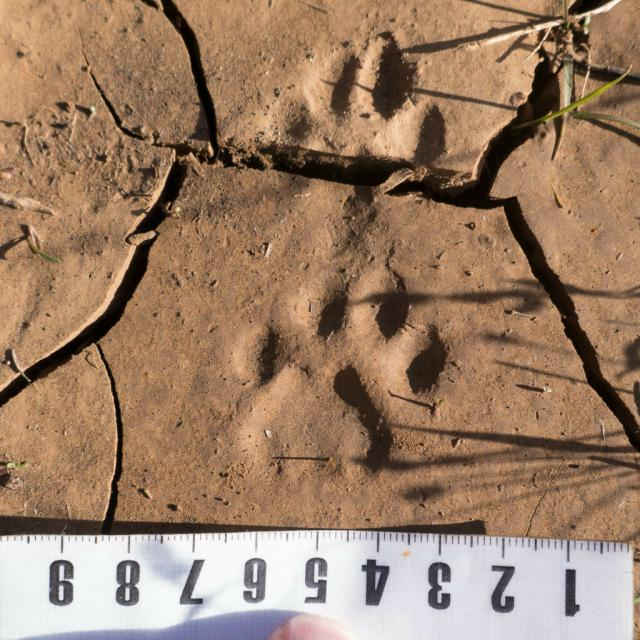felid: (242, 265, 450, 479), (283, 30, 445, 226)
